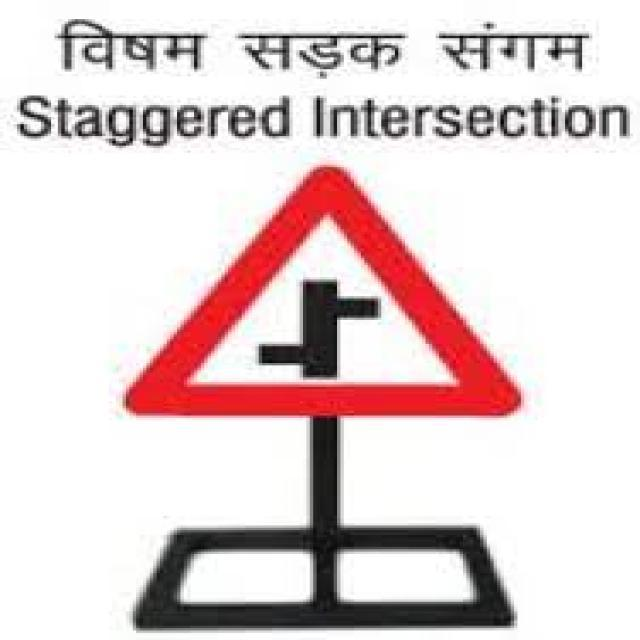staggered intersection: (119, 163, 526, 414)
